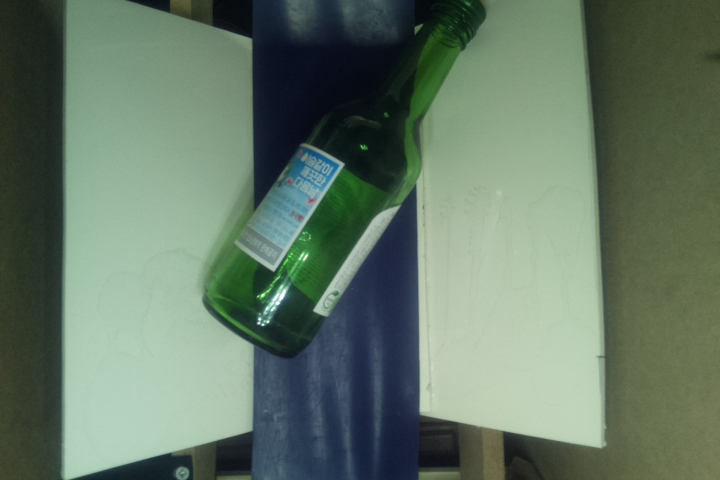soju: (205, 1, 490, 361)
